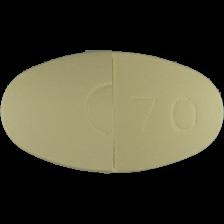55111-170: (0, 0, 224, 224)
